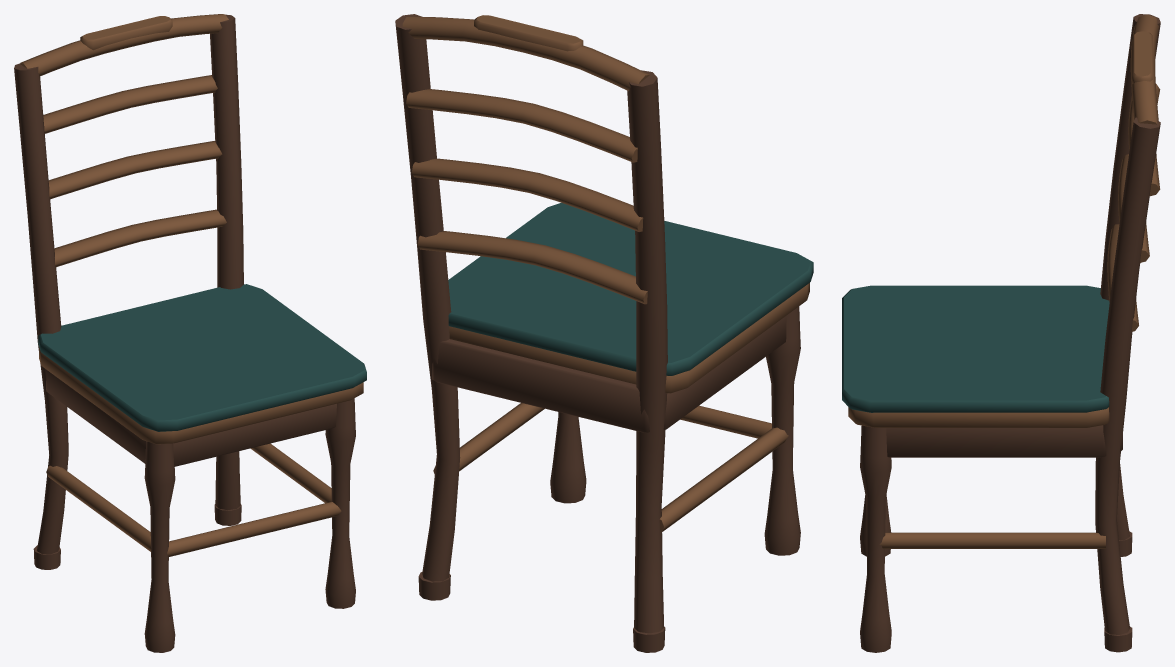
Rendered from rpg-mansion-ladder-side-01.glb.
The picture shows the model from 3 angles, left to right: view 1: azimuth 30°, elevation 25°; view 2: azimuth 150°, elevation 25°; view 3: azimuth 270°, elevation 25°; orthographic projection. The views are drawn at different scales.
Parts seen in each view (by area): view 1: rpg-mansion-ladder-side-01; view 2: rpg-mansion-ladder-side-01; view 3: rpg-mansion-ladder-side-01.
Part boxes in pixels (x1,y1,x2,y2): rpg-mansion-ladder-side-01: (14,14,366,652); rpg-mansion-ladder-side-01: (395,14,813,652); rpg-mansion-ladder-side-01: (842,14,1160,652).
Size of the model in its own units: 0.45 by 0.98 by 0.5192.
